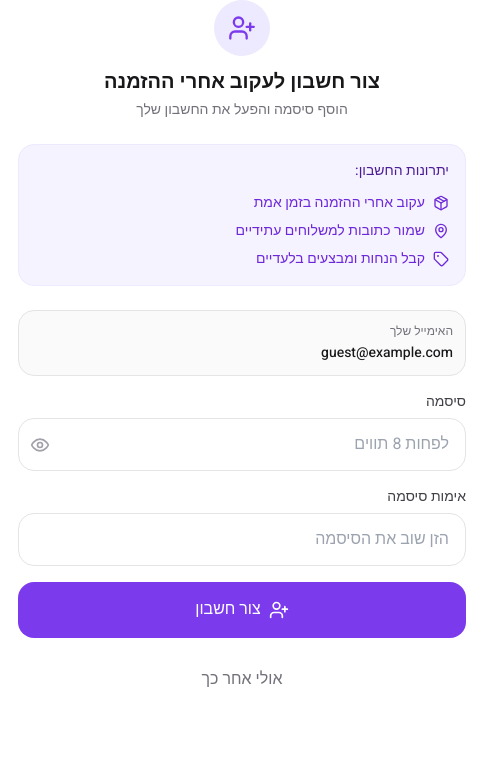
PostPurchaseSignup › Password Validation › should show error when passwords do not match
The image size is (485, 766).
In the password field labelled "סיסמה": x=242, y=445 [18, 418, 466, 471], type "password123"
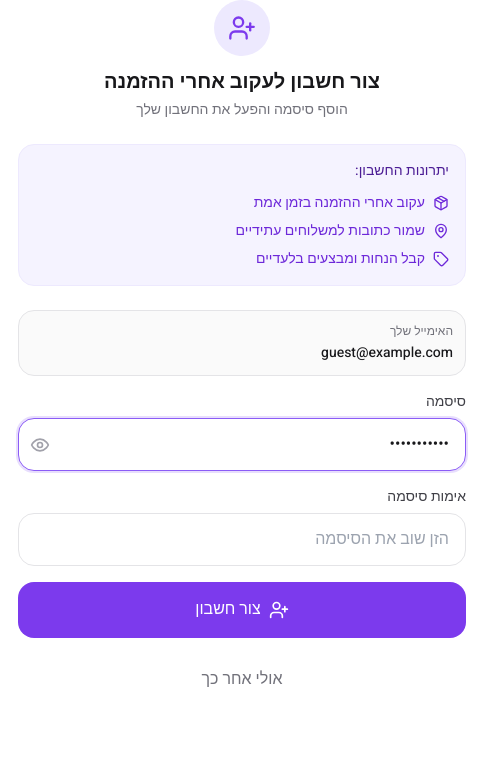
In the password field labelled "אימות סיסמה": x=242, y=540 [18, 513, 466, 566], type "different123"
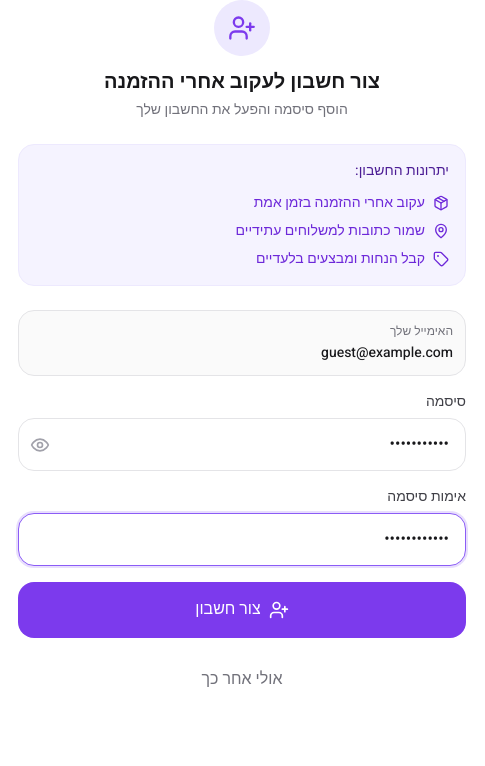
Click the button "צור חשבון": x=242, y=610 [18, 582, 466, 638]
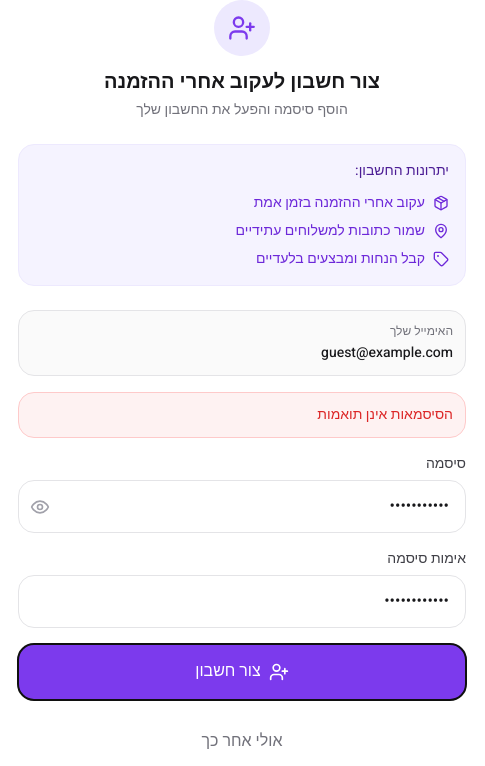
Expected: the text "הסיסמאות אינן תואמות" is shown, [18, 392, 466, 438]
